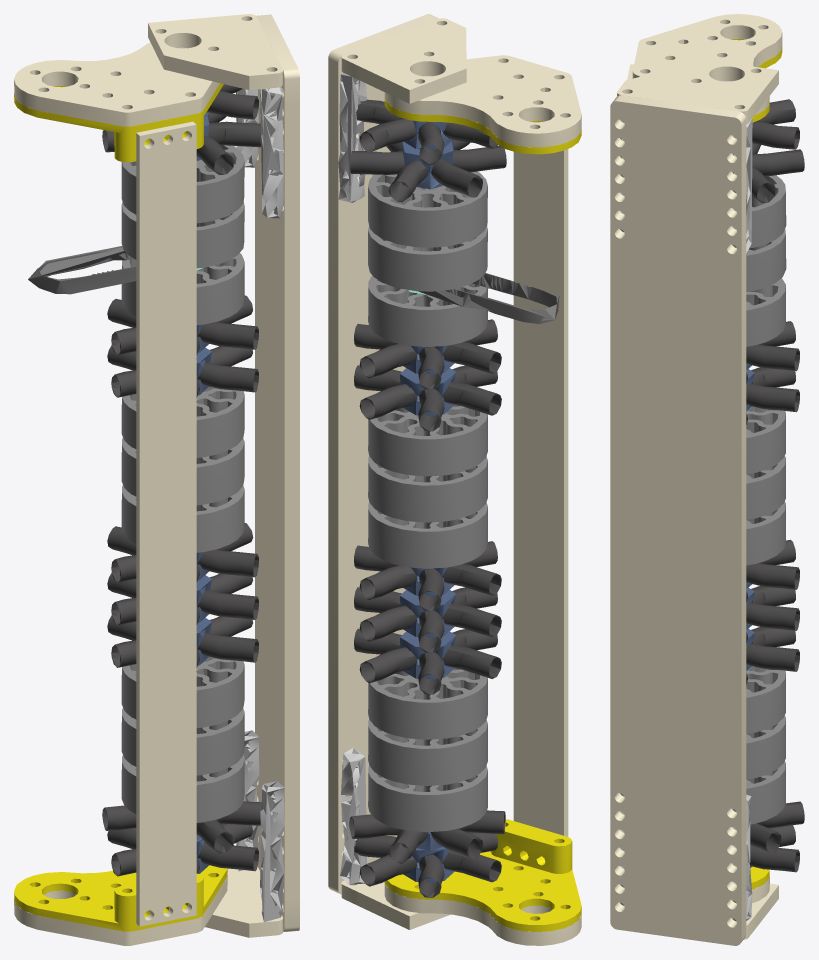
3 renders of one model, left to right at view 1: azimuth 30°, elevation 25°; view 2: azimuth 150°, elevation 25°; view 3: azimuth 270°, elevation 25°, orthographic. The views are drawn at different scales.
Visible parts, largest first — view 1: model_2.glb; view 2: model_2.glb; view 3: model_2.glb.
Boxes of the visible parts, left/top/right/bottom form: model_2.glb: left=14, top=14, right=299, bottom=945; model_2.glb: left=328, top=14, right=581, bottom=945; model_2.glb: left=610, top=14, right=804, bottom=945.
Size of the model in its own units: 0.1113 by 0.3647 by 0.0774.
